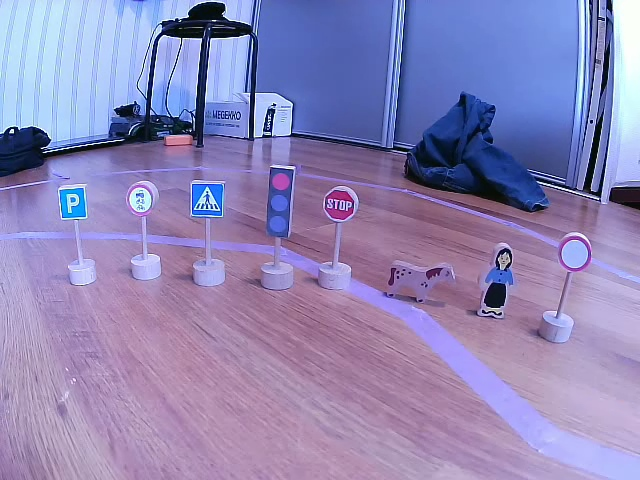fietspad: (123, 181, 154, 216)
mens: (475, 245, 517, 315)
paard: (387, 263, 456, 296)
parkeerbord: (58, 183, 87, 222)
roodlicht: (265, 165, 297, 237)
stopbord: (323, 187, 356, 221)
wegdicht: (557, 235, 590, 273)
zebrapad: (190, 179, 227, 219)
